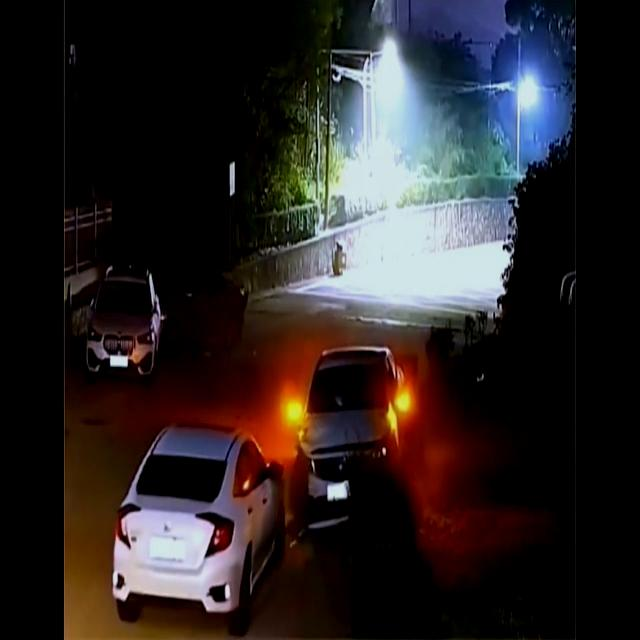accident: (112, 346, 416, 636), (83, 254, 251, 376)
